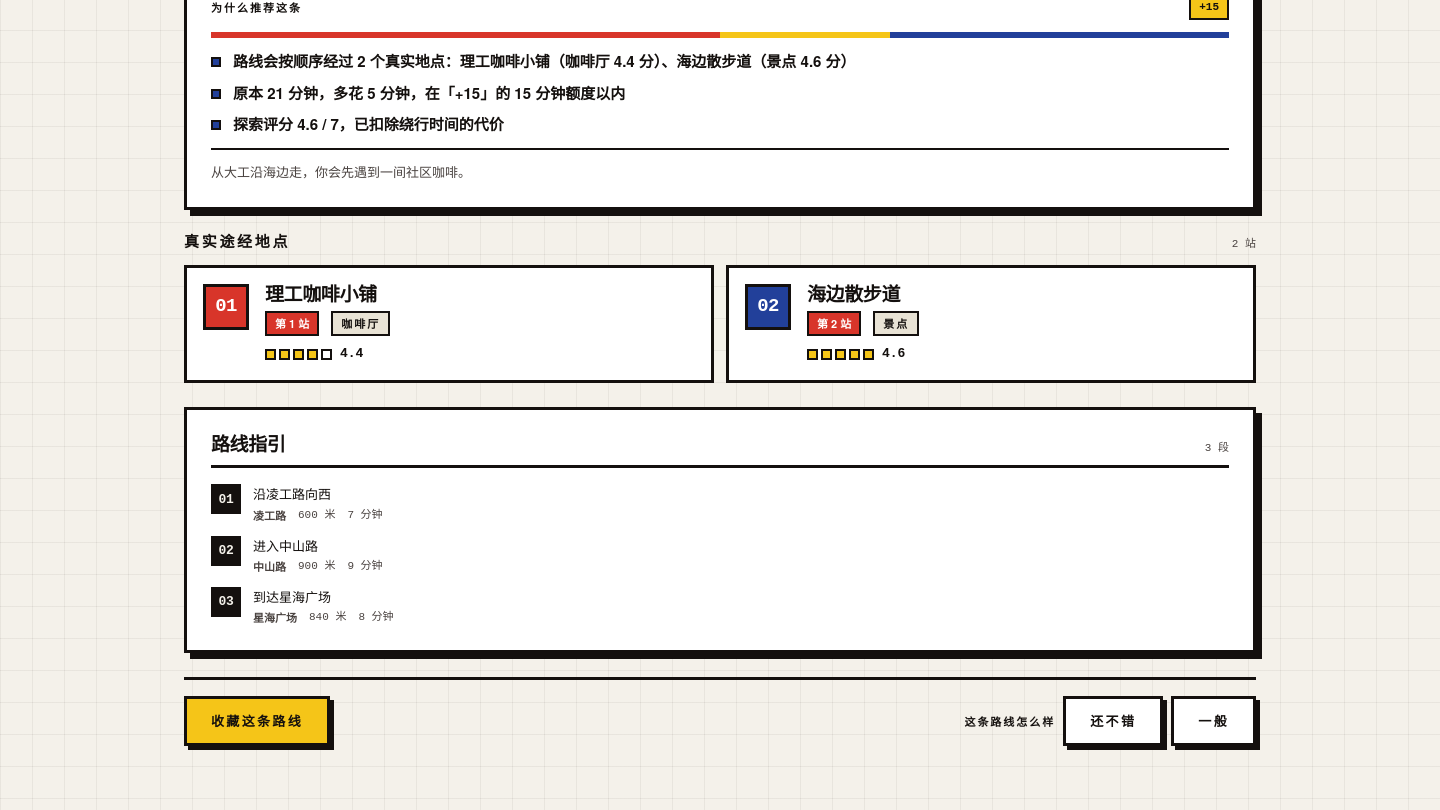
Scenario: ResultView › reports a failed save without throwing
(page scrolled)
Click the button with class "bh-btn--accent" at (257, 721), box [184,696,330,746]
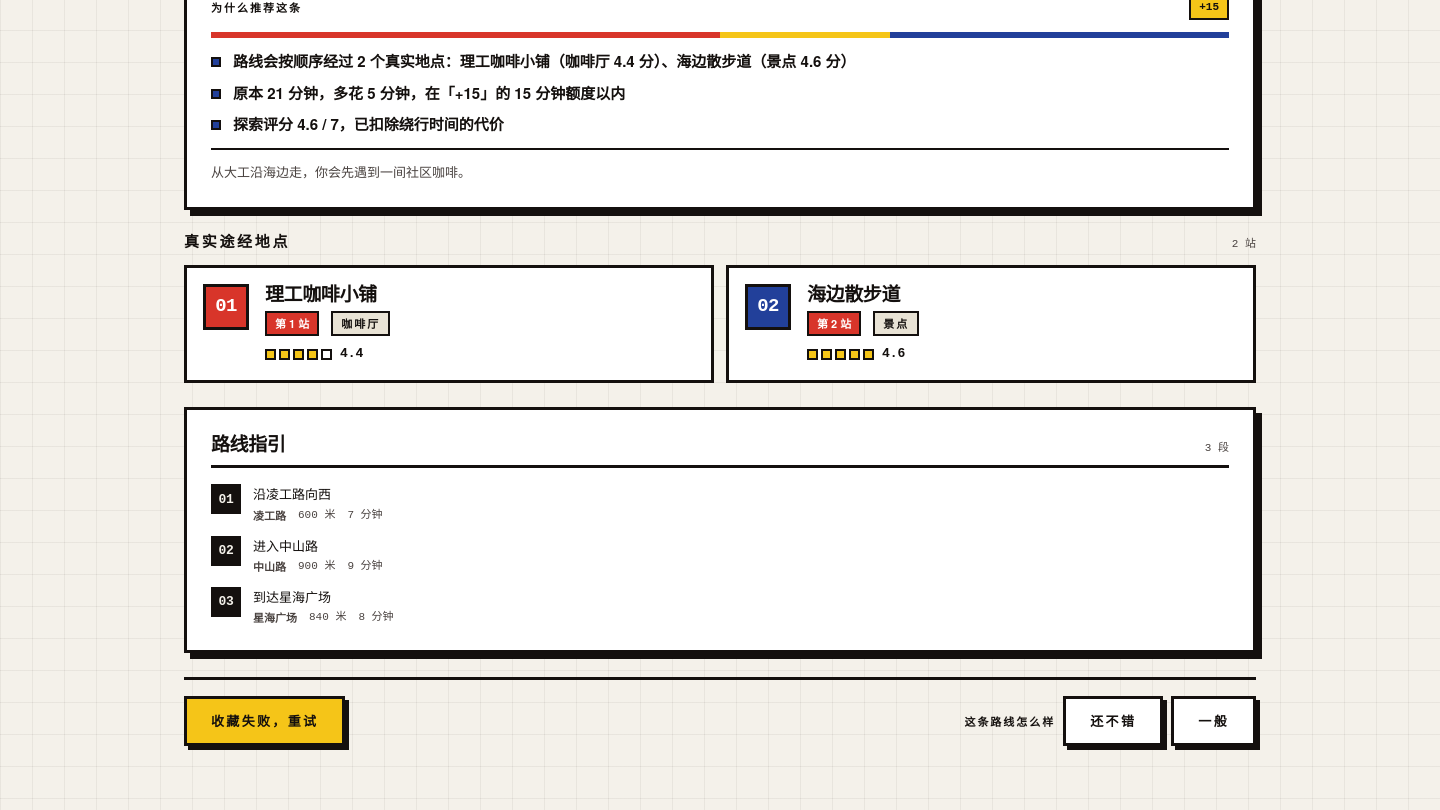
Check: the text "收藏失败" is shown, box [184,696,345,746]
